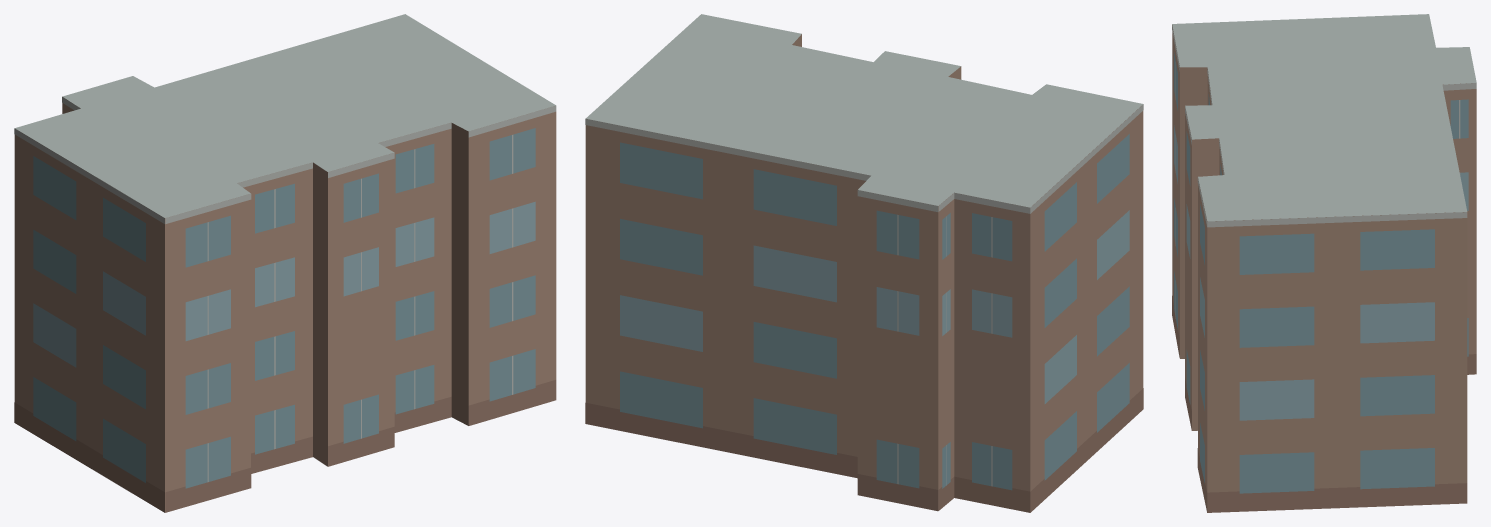
The model's file is survey-upis-32758346.glb.
The picture shows the model from 3 angles, left to right: view 1: azimuth 30°, elevation 25°; view 2: azimuth 150°, elevation 25°; view 3: azimuth 270°, elevation 25°; orthographic projection. The views are drawn at different scales.
Parts seen in each view (by area): view 1: survey-upis-32758346.tmp; view 2: survey-upis-32758346.tmp; view 3: survey-upis-32758346.tmp.
Part boxes in pixels (box(x1,y1,x2,y2)): survey-upis-32758346.tmp: box(14, 14, 556, 512); survey-upis-32758346.tmp: box(585, 14, 1143, 512); survey-upis-32758346.tmp: box(1172, 14, 1476, 512).
Bounding box in the file's own units: 18.02 × 11.8 × 11.18.
